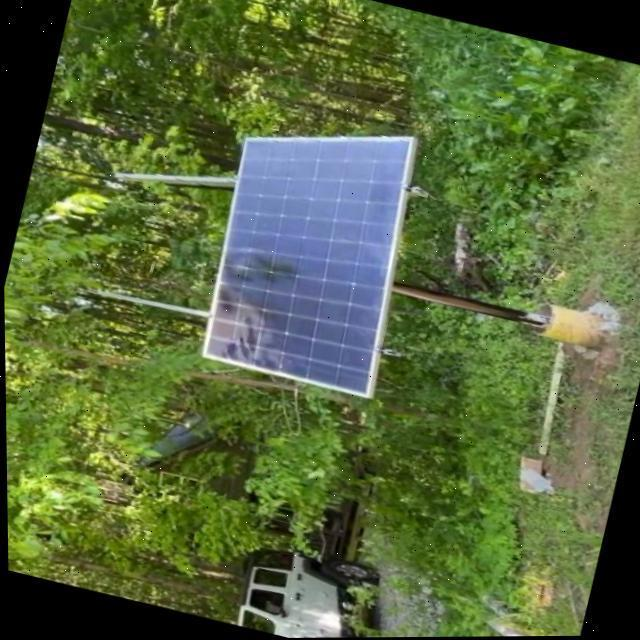Normal Solar Panel: (189, 97, 432, 398)
